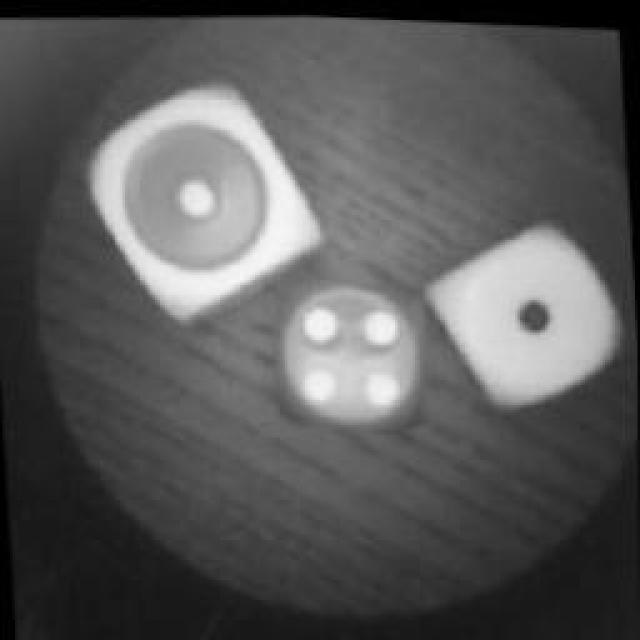dice_1: (70, 65, 330, 325), (422, 198, 638, 410)
dice_4: (268, 261, 442, 449)
